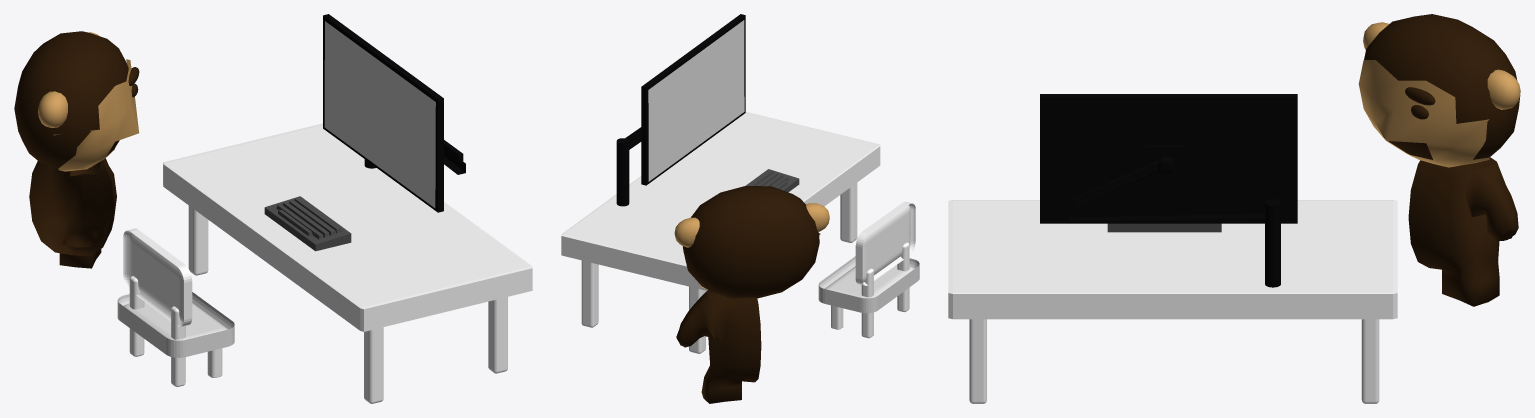
Rendered from 3D_Ouject.glb.
3 views of the same model, side by side, from view 1: azimuth 30°, elevation 25°; view 2: azimuth 150°, elevation 25°; view 3: azimuth 270°, elevation 25° (orthographic). The views are drawn at different scales.
Visible parts, largest first — view 1: Cube, Plane.001, Cube.019, Cube.022, Cube.006, Cube.004, kao, Cube.008, Cube.002, Cube.003, Cube.014, Cube.005 (+3 smaller); view 2: Cube, Cube.019, Plane.001, Cube.022, Cube.006, Cube.004, Cube.008, Cube.001, Cube.002, Cylinder, Cube.007, Cube.023 (+3 smaller); view 3: Cube, Cube.008, Cube.022, Cube.019, kao, Cube.015, Cube.001, Cube.003, Cylinder, Cube.013, Cube.014, Cube.023 (+1 smaller).
Part boxes in pixels (x1=…): Cube: x1=163, y1=123, x2=532, y2=331; Plane.001: x1=324, y1=21, x2=435, y2=207; Cube.019: x1=14, y1=31, x2=128, y2=168; Cube.022: x1=29, y1=158, x2=116, y2=268; Cube.006: x1=123, y1=228, x2=192, y2=326; Cube.004: x1=117, y1=292, x2=234, y2=357; kao: x1=53, y1=59, x2=139, y2=171; Cube.008: x1=323, y1=14, x2=443, y2=212; Cube.002: x1=364, y1=327, x2=383, y2=403; Cube.003: x1=488, y1=297, x2=507, y2=373; Cube.014: x1=264, y1=196, x2=351, y2=251; Cube.005: x1=188, y1=205, x2=208, y2=275; Cube: x1=561, y1=111, x2=880, y2=290; Cube.019: x1=683, y1=186, x2=819, y2=298; Plane.001: x1=648, y1=20, x2=744, y2=181; Cube.022: x1=676, y1=290, x2=761, y2=403; Cube.006: x1=855, y1=201, x2=915, y2=285; Cube.004: x1=818, y1=256, x2=919, y2=313; Cube.008: x1=641, y1=14, x2=745, y2=185; Cube.001: x1=581, y1=260, x2=598, y2=327; Cube.002: x1=840, y1=183, x2=857, y2=242; Cylinder: x1=616, y1=138, x2=629, y2=206; Cube.007: x1=861, y1=268, x2=873, y2=338; Cube.023: x1=674, y1=217, x2=699, y2=247; Cube: x1=948, y1=200, x2=1397, y2=319; Cube.008: x1=1040, y1=94, x2=1297, y2=223; Cube.022: x1=1408, y1=157, x2=1518, y2=306; Cube.019: x1=1364, y1=14, x2=1520, y2=159; kao: x1=1358, y1=60, x2=1489, y2=167; Cube.015: x1=1068, y1=203, x2=1265, y2=221; Cube.001: x1=1361, y1=319, x2=1379, y2=403; Cube.003: x1=969, y1=319, x2=986, y2=403; Cylinder: x1=1265, y1=199, x2=1280, y2=287; Cube.013: x1=1073, y1=156, x2=1173, y2=208; Cube.014: x1=1107, y1=223, x2=1221, y2=232; Cube.023: x1=1487, y1=69, x2=1520, y2=109.
Size of what is drawn, in the model's own units: 3.51 by 2.88 by 5.15.
